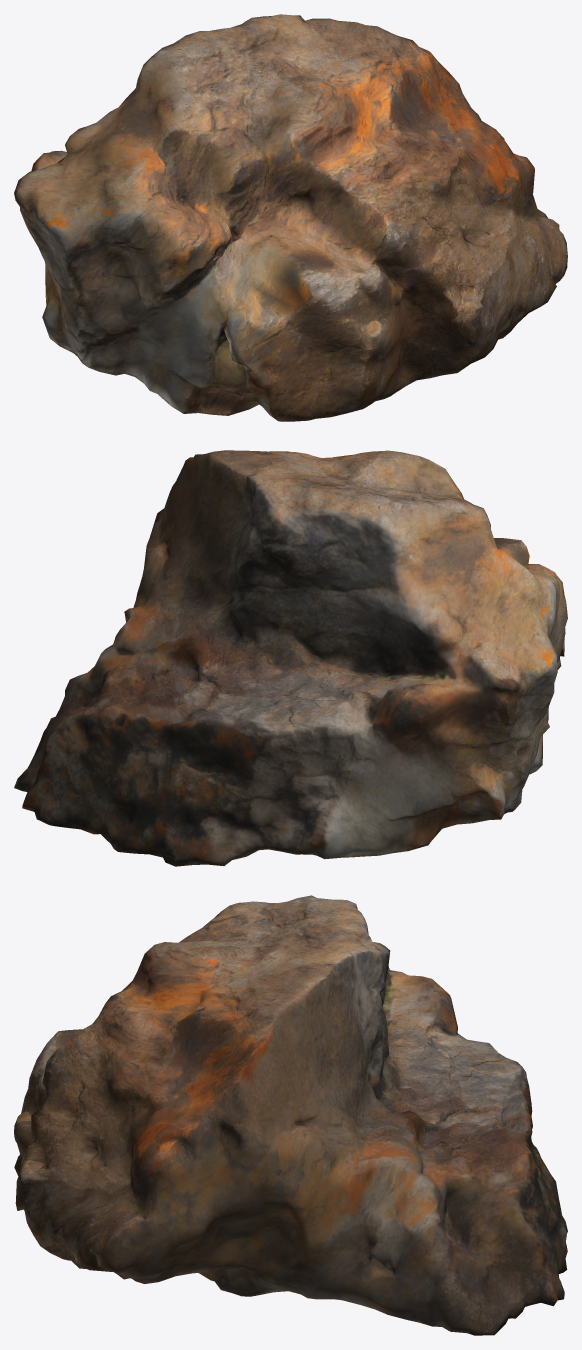
Rendered from ancient_boulder.glb.
The picture shows the model from 3 angles, top to bottom: view 1: azimuth 30°, elevation 25°; view 2: azimuth 150°, elevation 25°; view 3: azimuth 270°, elevation 25°; orthographic projection. The views are drawn at different scales.
Bounding box in the file's own units: 1.89 × 1.25 × 1.99.
1 material, 1 textured.
